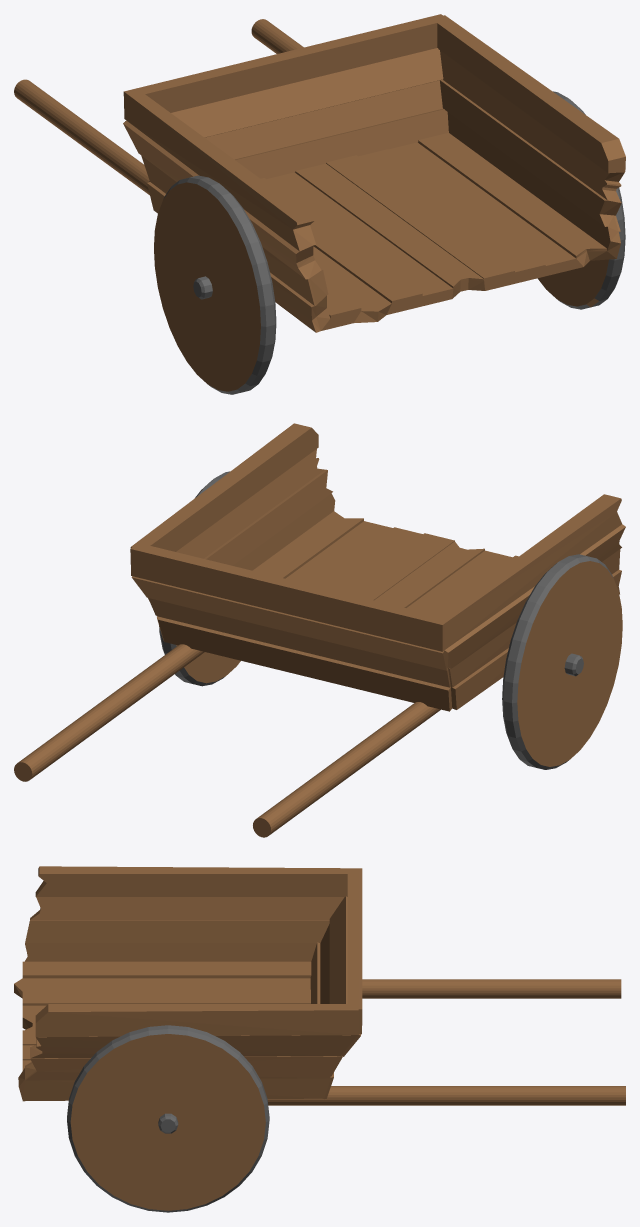
File: Cart.dae
The picture shows the model from 3 angles, top to bottom: view 1: azimuth 30°, elevation 25°; view 2: azimuth 150°, elevation 25°; view 3: azimuth 270°, elevation 25°; orthographic projection. The views are drawn at different scales.
Parts seen in each view (by area): view 1: Cube; view 2: Cube; view 3: Cube.
Boxes of the visible parts, x1=… form: Cube: x1=14, y1=14, x2=625, y2=394; Cube: x1=14, y1=423, x2=625, y2=837; Cube: x1=14, y1=866, x2=625, y2=1212.
Size of the model in its own units: 2.77 by 4.21 by 1.47.
Materials: 1 (1 with a texture image).
